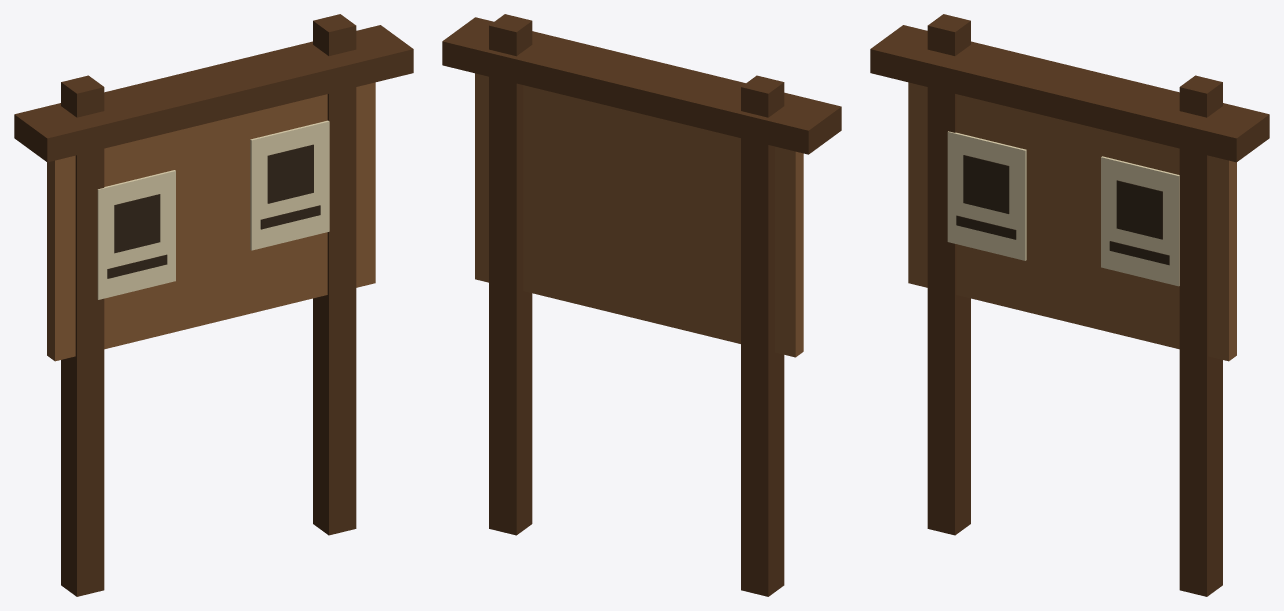
The model's file is wanted_board.glb.
3 renders of one model, left to right at view 1: azimuth 30°, elevation 25°; view 2: azimuth 150°, elevation 25°; view 3: azimuth 330°, elevation 25°, orthographic.
Parts seen in each view (by area): view 1: wanted_board; view 2: wanted_board; view 3: wanted_board.
Boxes of the visible parts, x1=… form: wanted_board: x1=14, y1=14, x2=413, y2=596; wanted_board: x1=442, y1=14, x2=841, y2=596; wanted_board: x1=870, y1=14, x2=1269, y2=596.
Size of the model in its own units: 1.6 by 2.1 by 0.25.
